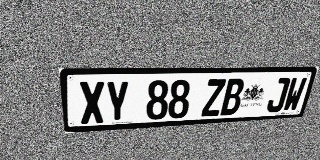8: (167, 79, 192, 119), (146, 80, 170, 120)
B: (220, 78, 246, 116)
J: (265, 78, 291, 113)
W: (282, 77, 308, 112)
X: (79, 81, 105, 124)
Y: (105, 81, 129, 123)
Z: (201, 79, 226, 117)
